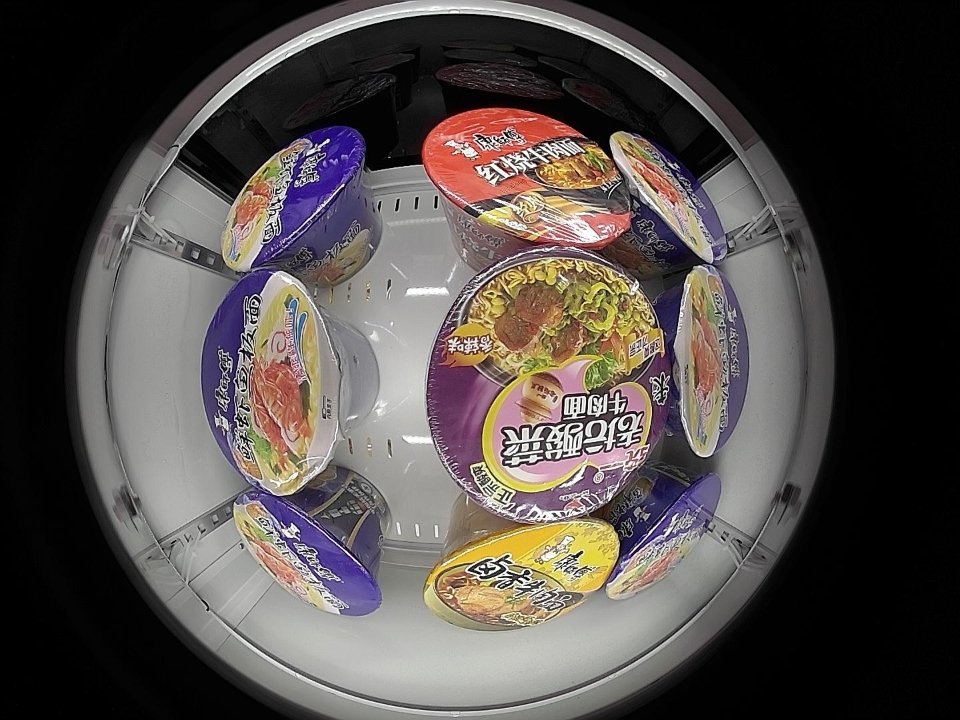hongshaoniurou: (421, 108, 632, 250)
laotansuancai: (424, 247, 669, 522)
luxiangniurou: (424, 517, 620, 631)
xianxiayuban: (202, 269, 344, 496), (221, 126, 365, 271), (234, 491, 381, 618), (665, 264, 748, 459), (610, 130, 726, 267), (608, 468, 722, 600)
